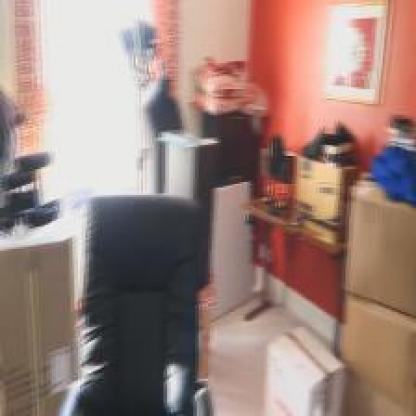other: (56, 27, 130, 178), (283, 12, 321, 99)
